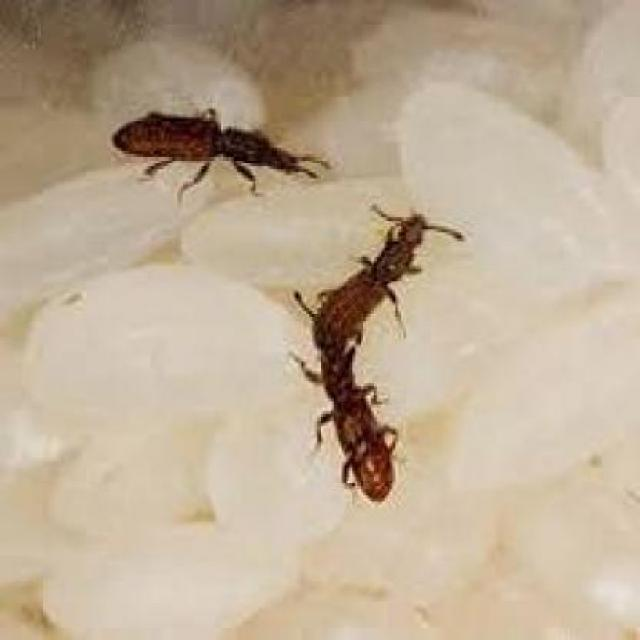rice-bug: (298, 214, 426, 498), (113, 108, 304, 177)
